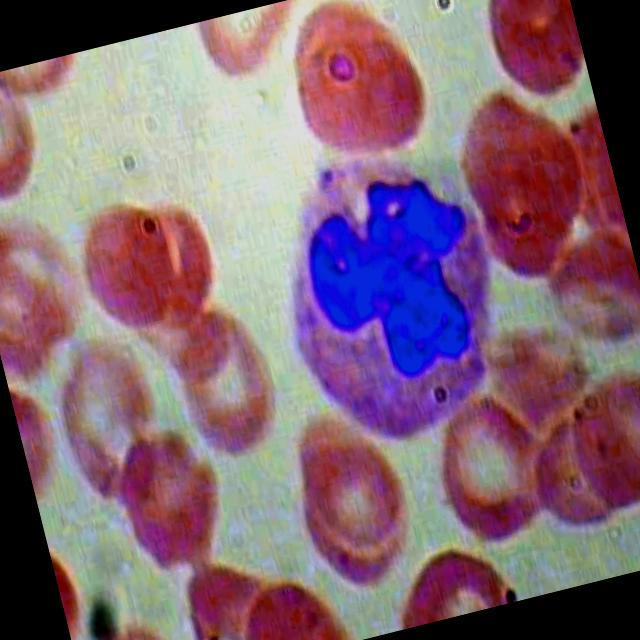WBC: (252, 120, 538, 463)
